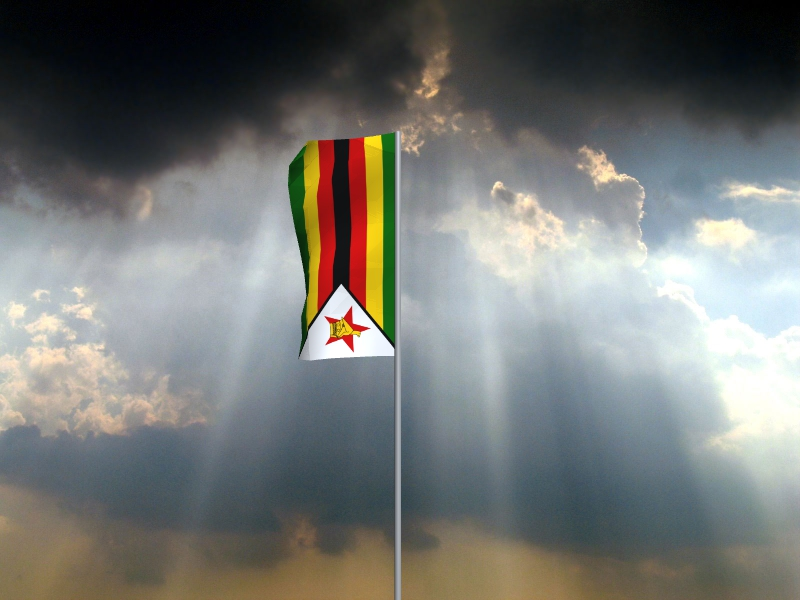zw: (287, 133, 396, 362)
